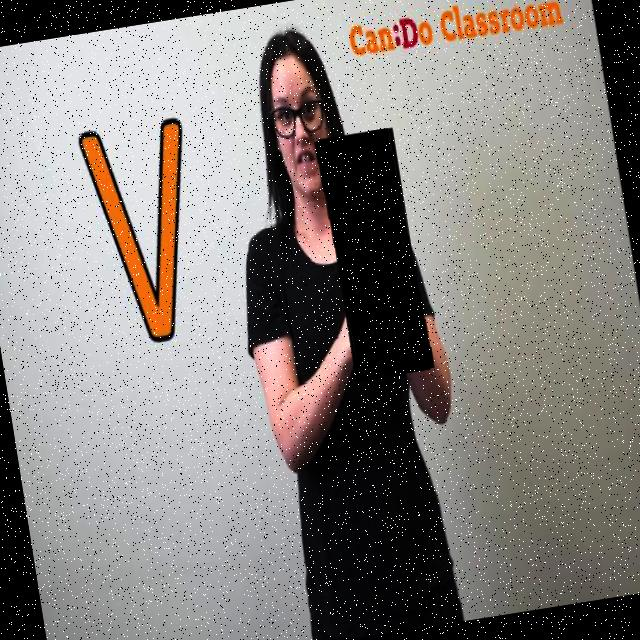V: (317, 128, 434, 383)
